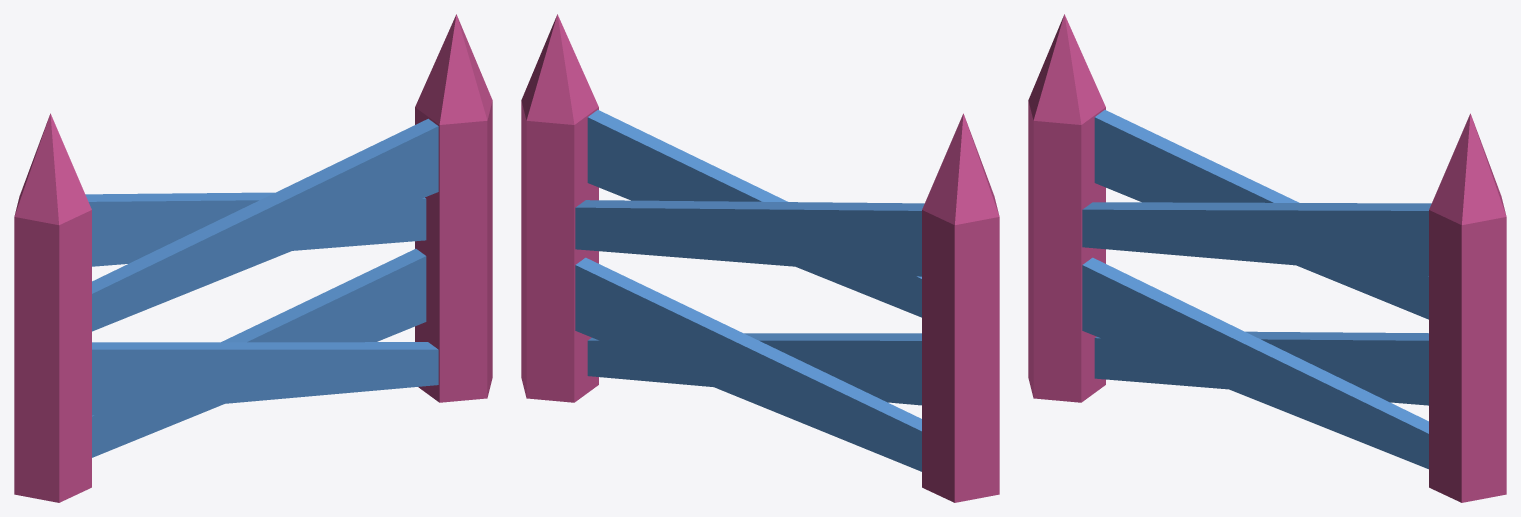
The model's file is LowTechFance.fbx.
3 views of the same model, side by side, from view 1: azimuth 30°, elevation 25°; view 2: azimuth 150°, elevation 25°; view 3: azimuth 330°, elevation 25° (orthographic).
Parts seen in each view (by area): view 1: LowTechFence:LowTechFence; view 2: LowTechFence:LowTechFence; view 3: LowTechFence:LowTechFence.
Part boxes in pixels (left/top/right/bottom): LowTechFence:LowTechFence: left=14, top=14, right=492, bottom=502; LowTechFence:LowTechFence: left=521, top=14, right=999, bottom=502; LowTechFence:LowTechFence: left=1028, top=14, right=1506, bottom=502.
Bounding box in the file's own units: 2.77 × 2.06 × 0.398.
